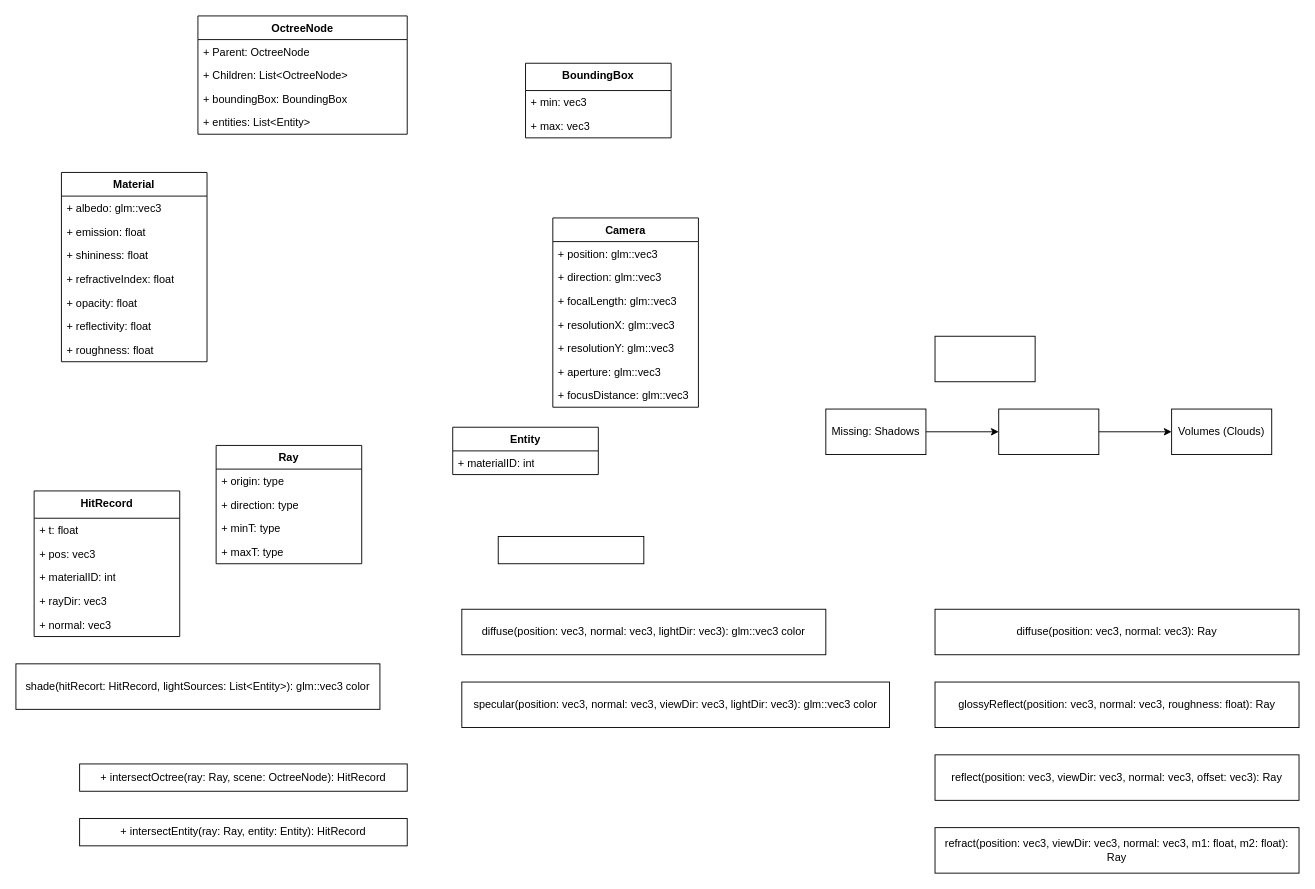
Some shapes in this 1315 by 889 pixel diagram are drawn without their labels. Here are the shapes that lost their labels. From the top down, the centre of each, then its label:
point (984, 358): Environment Map
point (1048, 431): Textures
point (570, 550): + boundingBox(type): type
